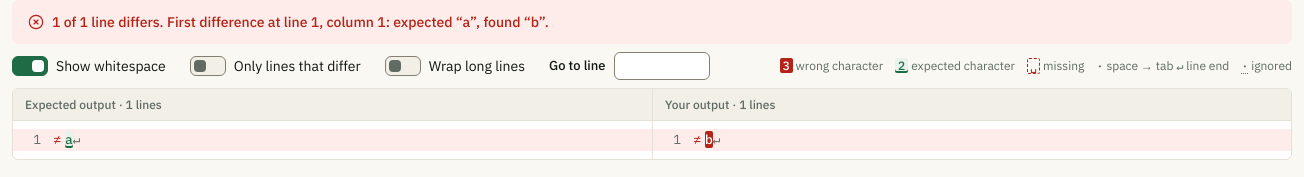
Scenario: DiffView on the review pages › wraps long lines on request
What coordinates should you click on to do the following:
click the switch named "Wrap long lines" next to "Wrap long lines"
I would click on:
 (403, 66)
Its box is [385, 56, 421, 76].
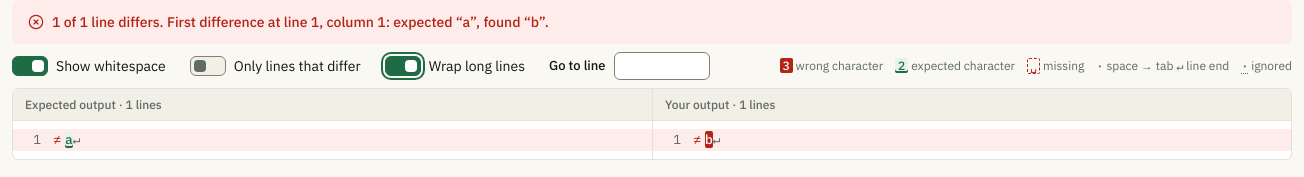
Result: the element with class "is-wrapped" is shown
